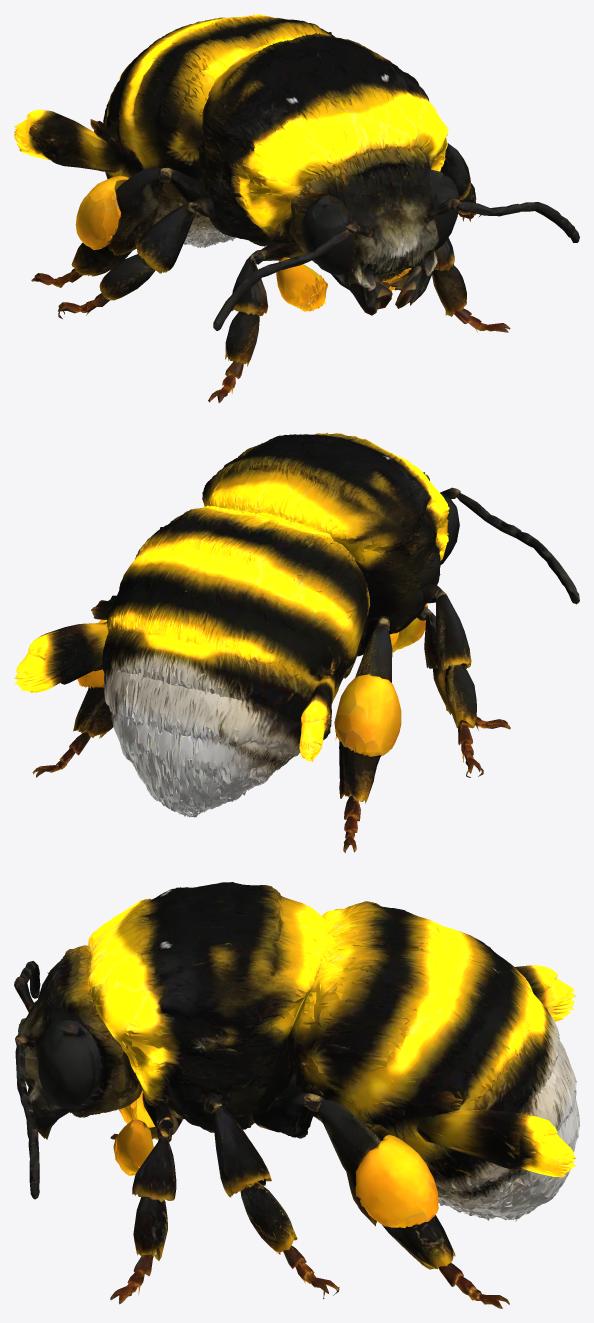
Rendered from bee.glb.
The picture shows the model from 3 angles, top to bottom: view 1: azimuth 30°, elevation 25°; view 2: azimuth 150°, elevation 25°; view 3: azimuth 270°, elevation 25°; orthographic projection. The views are drawn at different scales.
Visible parts, largest first — view 1: Mesh_0; view 2: Mesh_0; view 3: Mesh_0.
Part boxes in pixels (left/top/right/bottom): Mesh_0: left=14, top=14, right=579, bottom=402; Mesh_0: left=14, top=433, right=579, bottom=853; Mesh_0: left=14, top=882, right=579, bottom=1308.
Size of the model in its own units: 1.87 by 1.19 by 1.88.
Materials: 1 (1 with a texture image).
